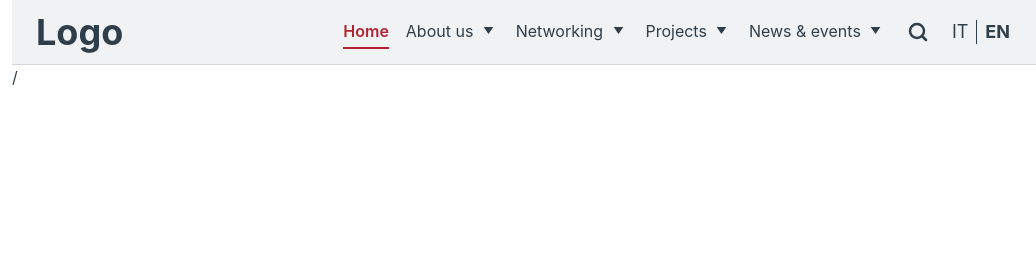
it: dropdown items scroll targets (en) › /about › clicking "Regulations" navigates to the page with its #hash and closes the dropdown
The image size is (1036, 273).
Click the button named "About us submenu" at coordinates (488, 31), box [478,19,498,43]
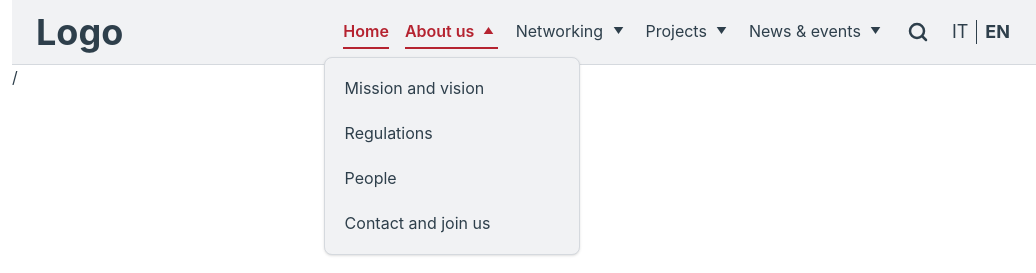
Click the link "Regulations" at coordinates (389, 133), box [345,123,433,143]
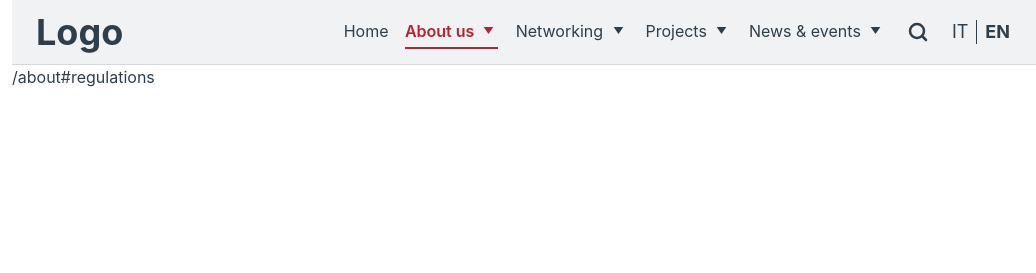
Expected: the text with test id "location" reads "/about#regulations", [12,67,155,87]
